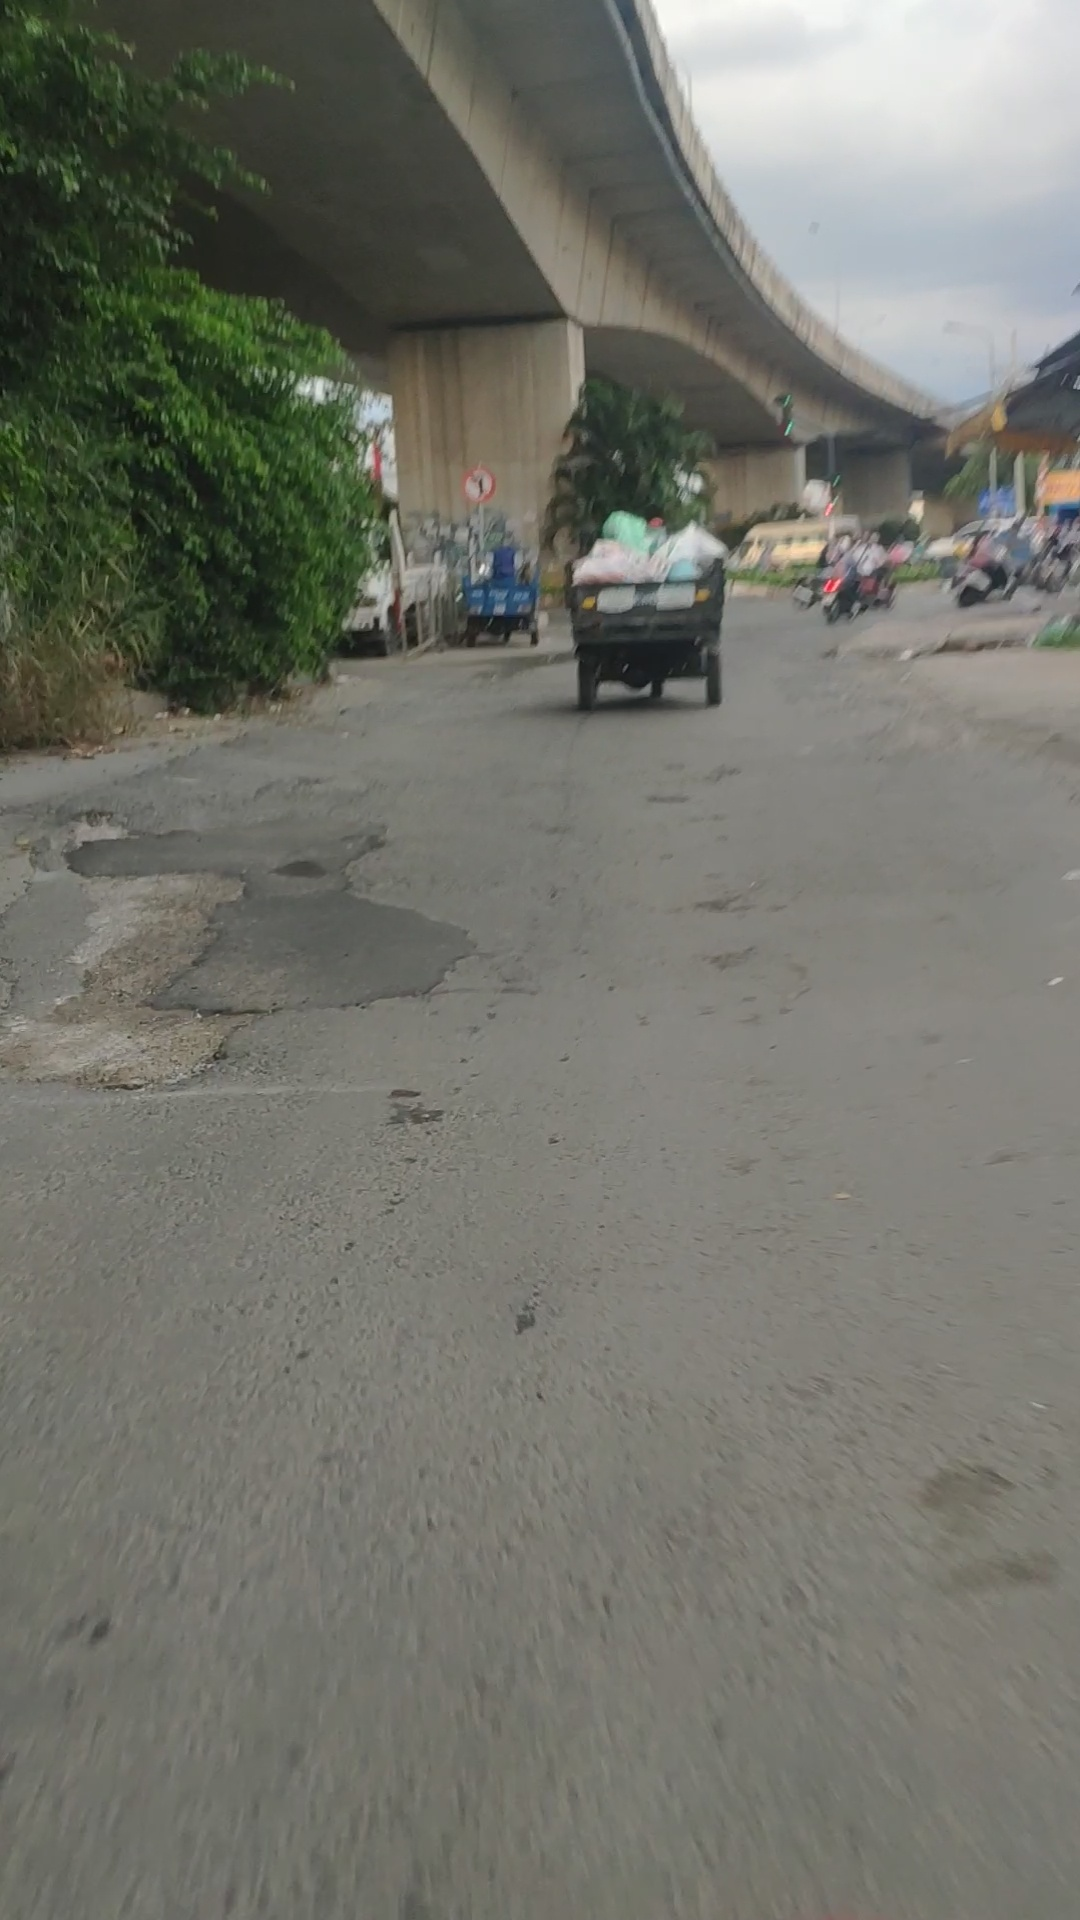hole: (1, 860, 278, 1106), (5, 804, 160, 862)
